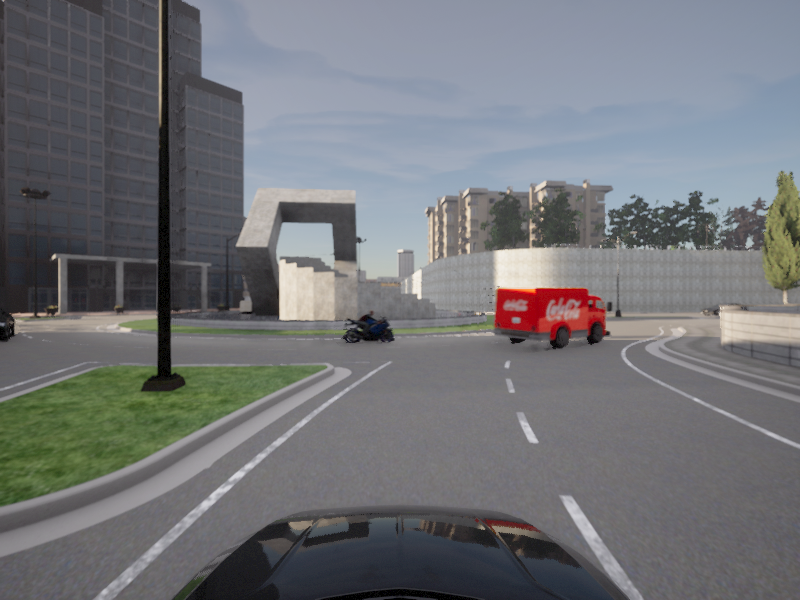vehicle: (490, 286, 619, 352), (343, 309, 395, 346), (0, 305, 17, 347)
